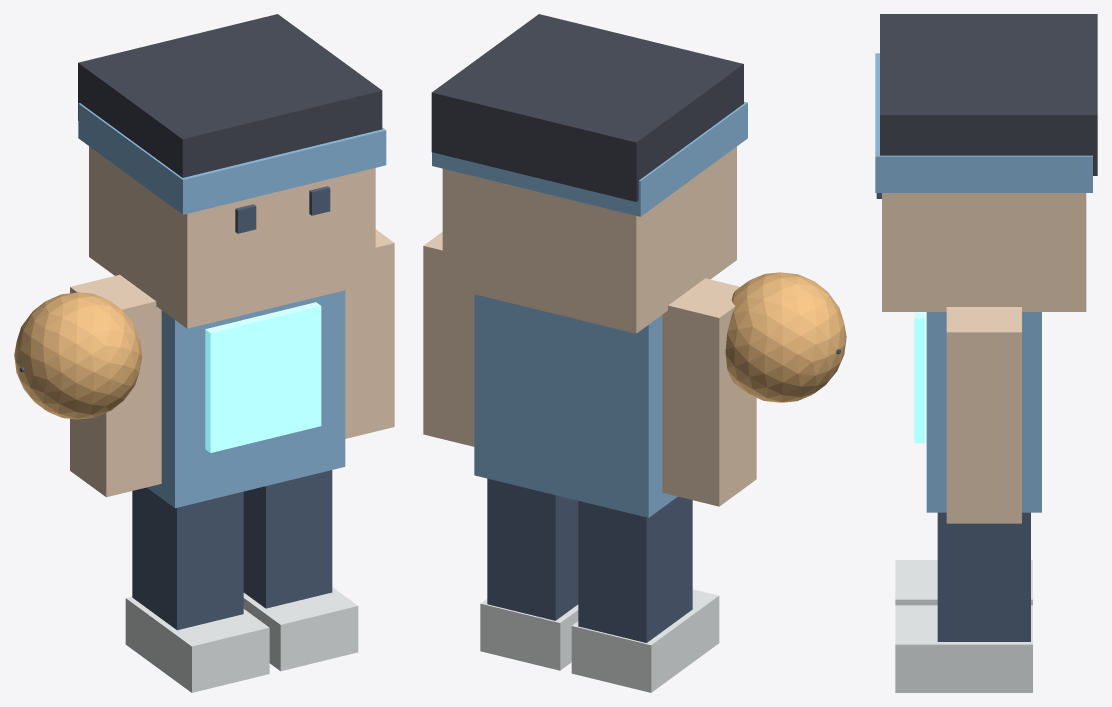
File: weirdo_1_invisible_mvp.glb
3 renders of one model, left to right at view 1: azimuth 30°, elevation 25°; view 2: azimuth 150°, elevation 25°; view 3: azimuth 270°, elevation 25°, orthographic. The views are drawn at different scales.
Parts seen in each view (by area): view 1: Hair, Head, RootBody, JerseyPanel, Leg_L, Basketball, Headband, Arm_L, Leg_R, Shoe_L, Arm_R, Shoe_R; view 2: Hair, RootBody, Head, Arm_L, Leg_L, Basketball, Leg_R, Arm_R, Shoe_L, Headband, Shoe_R; view 3: Hair, Head, Arm_R, Leg_R, Headband, Shoe_R, RootBody, Shoe_L, JerseyPanel.
Part boxes in pixels (x1,y1,x2,y2): Hair: (78, 14, 382, 177); Head: (89, 146, 375, 328); RootBody: (147, 290, 345, 508); JerseyPanel: (205, 302, 321, 452); Leg_L: (132, 487, 243, 630); Basketball: (14, 292, 142, 419); Headband: (78, 103, 386, 214); Arm_L: (70, 274, 161, 497); Leg_R: (243, 470, 332, 608); Shoe_L: (125, 596, 269, 692); Arm_R: (345, 229, 394, 438); Shoe_R: (243, 587, 358, 671); Hair: (431, 14, 743, 201); RootBody: (474, 294, 677, 517); Head: (442, 146, 736, 333); Arm_L: (662, 278, 756, 506); Leg_L: (578, 496, 692, 642); Basketball: (725, 272, 846, 402); Leg_R: (487, 478, 578, 620); Arm_R: (423, 232, 474, 446); Shoe_L: (571, 589, 719, 692); Headband: (432, 101, 747, 216); Shoe_R: (480, 599, 578, 670); Hair: (880, 14, 1097, 175); Head: (882, 193, 1086, 311); Arm_R: (946, 307, 1021, 523); Leg_R: (937, 512, 1030, 641); Headband: (875, 53, 1092, 192); Shoe_R: (895, 605, 1032, 692); RootBody: (926, 312, 1041, 512); Shoe_L: (895, 560, 1032, 605); JerseyPanel: (914, 312, 925, 443).
Bounding box in the file's own units: 2.01 × 2.91 × 1.
